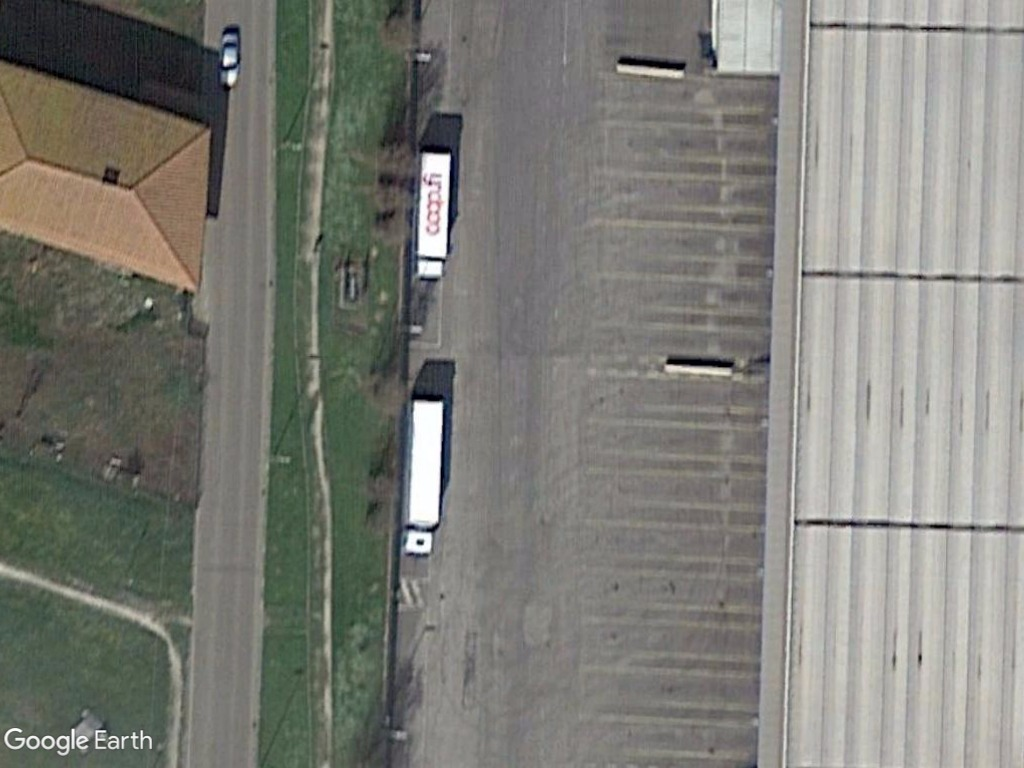car: (214, 29, 243, 89)
longvehicle: (402, 392, 448, 561), (410, 145, 455, 286)
